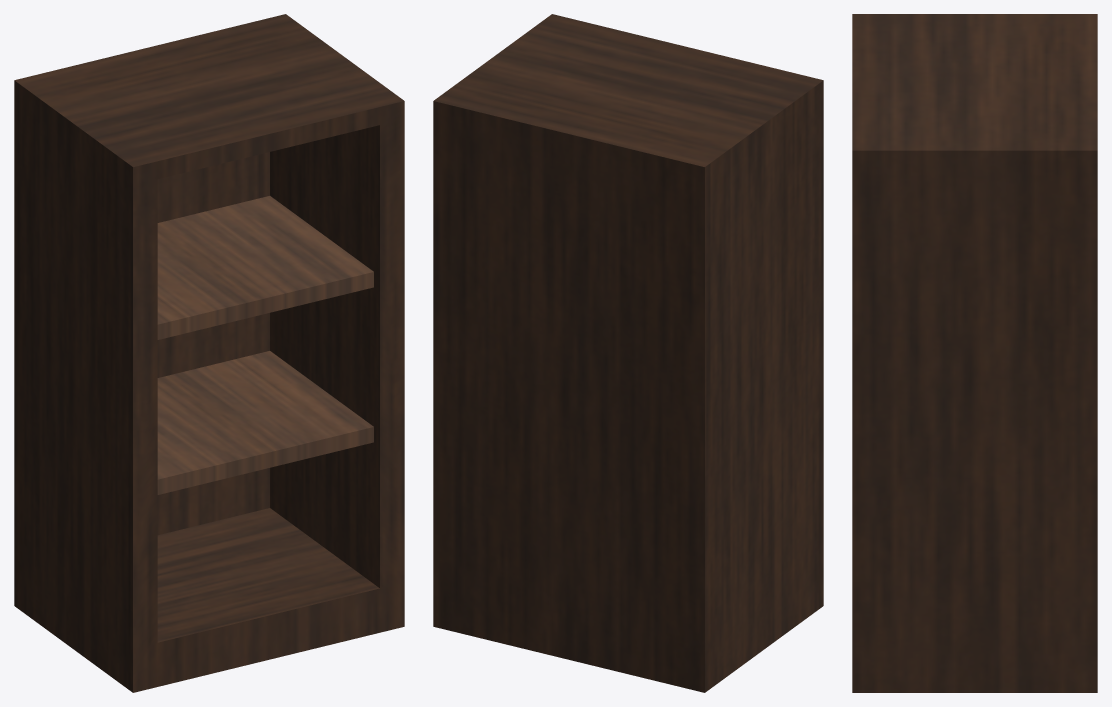
File: Shelves_2B.fbx
The picture shows the model from 3 angles, left to right: view 1: azimuth 30°, elevation 25°; view 2: azimuth 150°, elevation 25°; view 3: azimuth 270°, elevation 25°; orthographic projection. The views are drawn at different scales.
Visible parts, largest first — view 1: polySurface232; view 2: polySurface232; view 3: polySurface232.
Part boxes in pixels (left/top/right/bottom): polySurface232: left=14, top=14, right=404, bottom=692; polySurface232: left=433, top=14, right=823, bottom=692; polySurface232: left=852, top=14, right=1097, bottom=692.
Size of the model in its own units: 1.1 by 2.03 by 0.8338.
